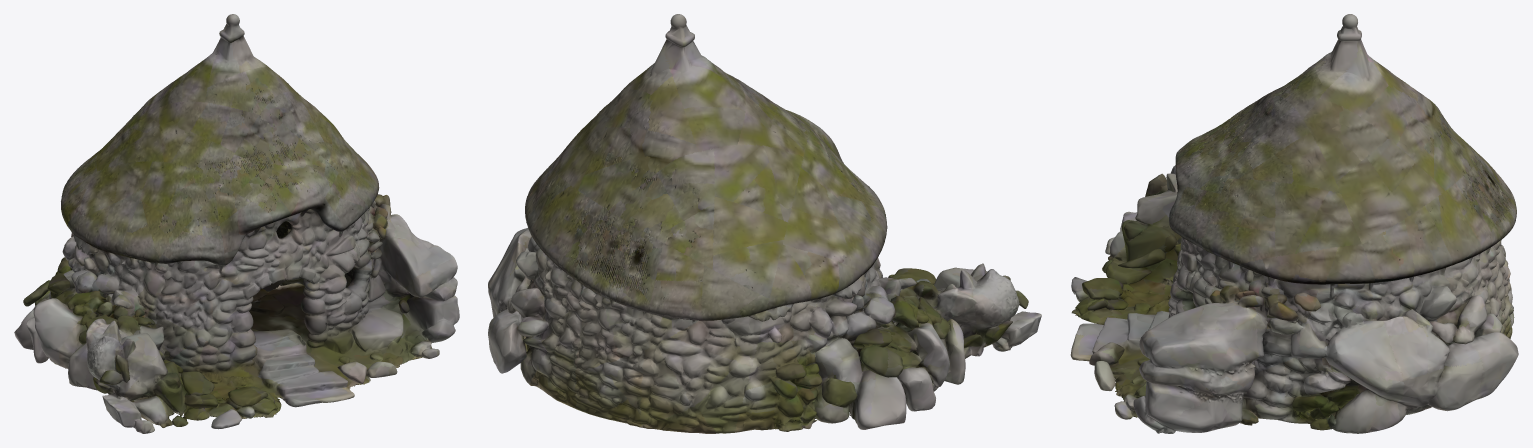
Rendered from building 9.glb.
The picture shows the model from 3 angles, left to right: view 1: azimuth 30°, elevation 25°; view 2: azimuth 150°, elevation 25°; view 3: azimuth 270°, elevation 25°; orthographic projection. The views are drawn at different scales.
Parts seen in each view (by area): view 1: Mesh_0; view 2: Mesh_0; view 3: Mesh_0.
Part boxes in pixels (left/top/right/bottom): Mesh_0: left=14, top=14, right=459, bottom=433; Mesh_0: left=488, top=14, right=1041, bottom=433; Mesh_0: left=1070, top=14, right=1518, bottom=433.
Bounding box in the file's own units: 1.9 × 1.49 × 1.76.
1 material, 1 textured.
